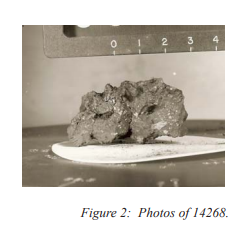Breccia: (60, 68, 203, 161)
